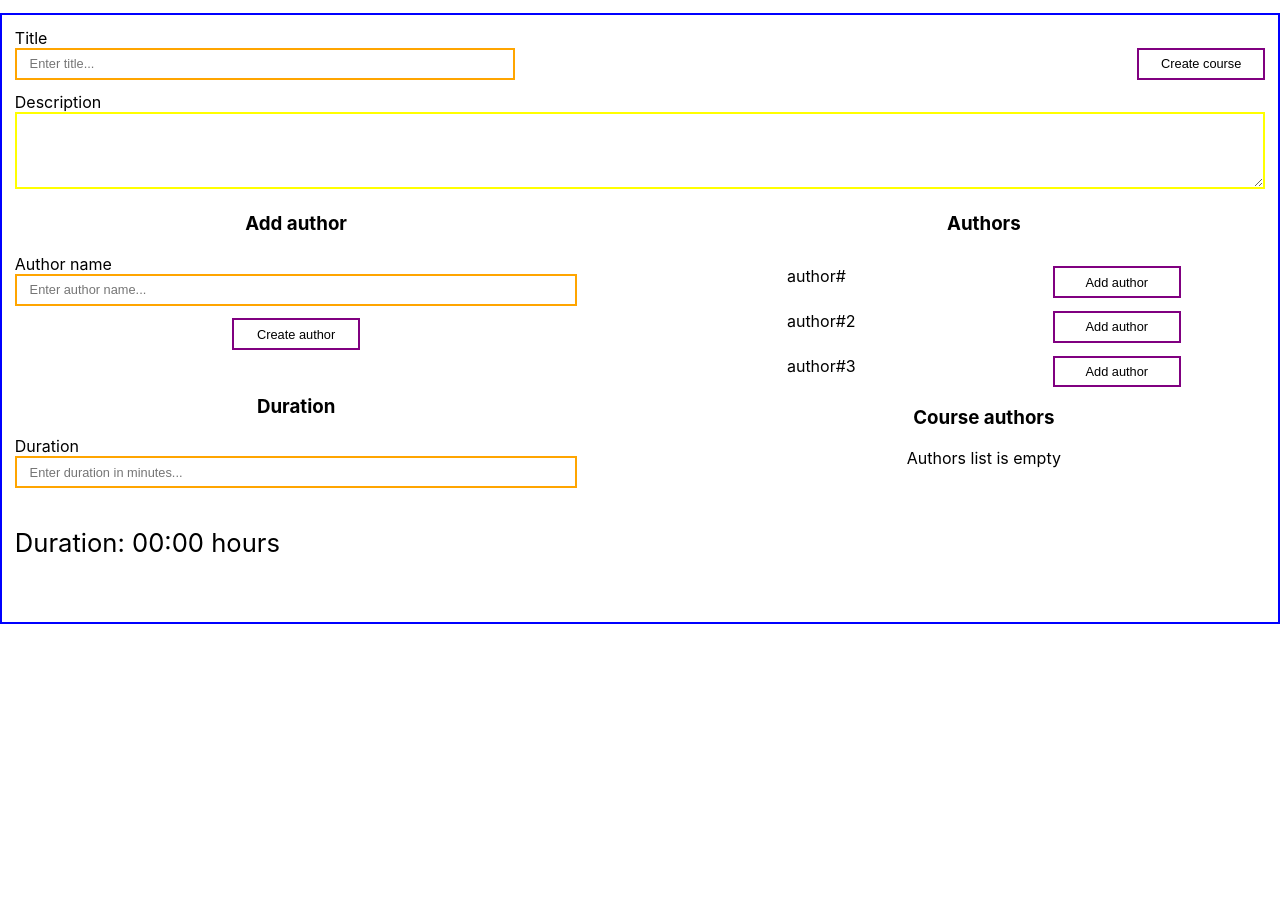
Test case: Should check if the course duration correctly converted into houres
The width and height of the screenshot is (1280, 900).
In the field with placeholder "Enter duration in minutes...": [296, 472] box [15,456,578,488], type "60"
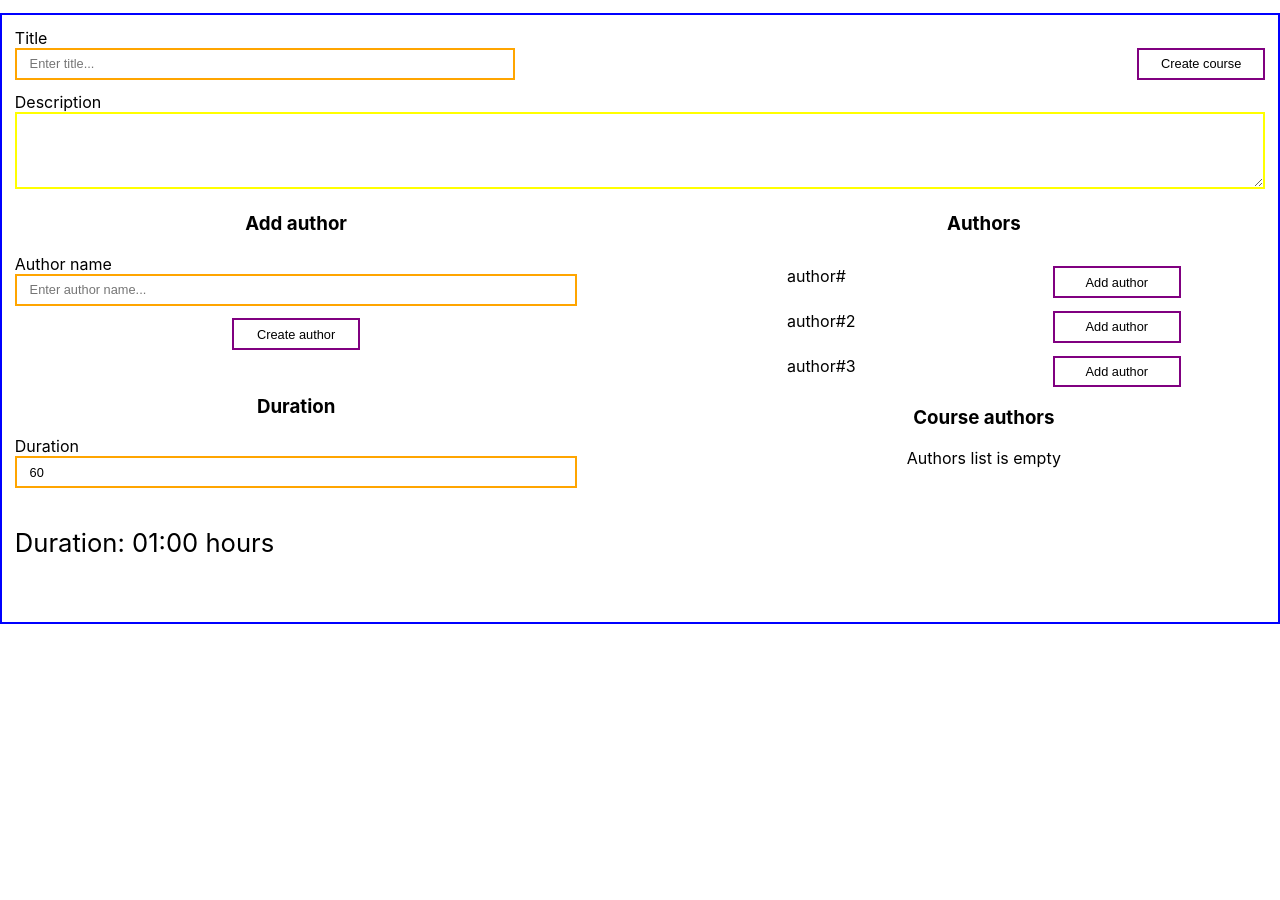
Result: the text "00:00" reads "01:00" at [132,527,198,558]
